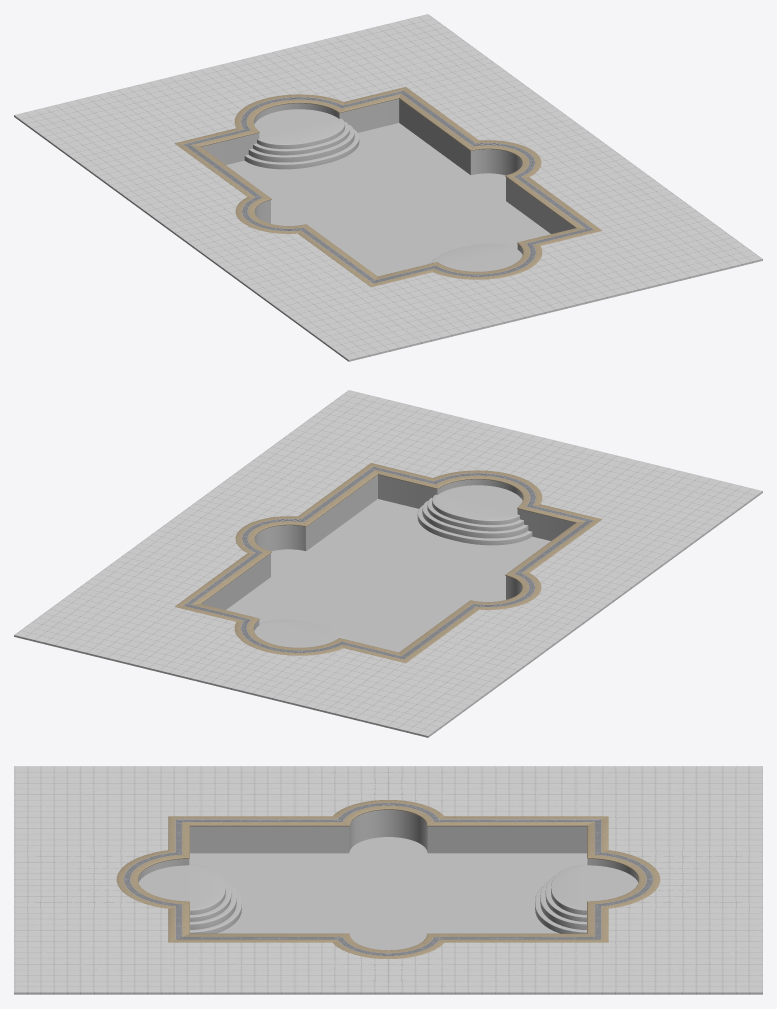
Rendered from PoolDesign01.FBX.
3 renders of one model, top to bottom at view 1: azimuth 30°, elevation 25°; view 2: azimuth 150°, elevation 25°; view 3: azimuth 270°, elevation 25°, orthographic. The views are drawn at different scales.
Parts seen in each view (by area): view 1: PoolDesign01; view 2: PoolDesign01; view 3: PoolDesign01.
Boxes of the visible parts, x1,y1,x2,y2 form: PoolDesign01: (14,14,762,361); PoolDesign01: (14,390,762,737); PoolDesign01: (14,766,762,994).
Size of what is drawn, in the model's own units: 25 by 1.46 by 35.
